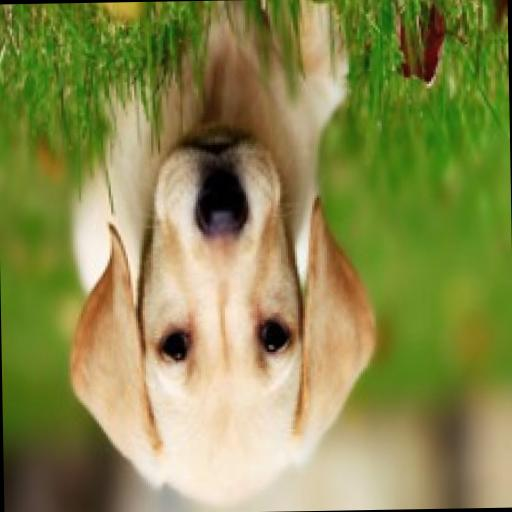dog: (51, 0, 381, 509)
